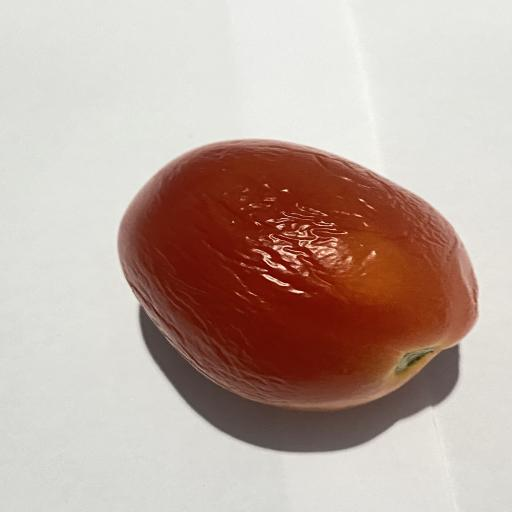spoiled: (119, 140, 477, 410)
